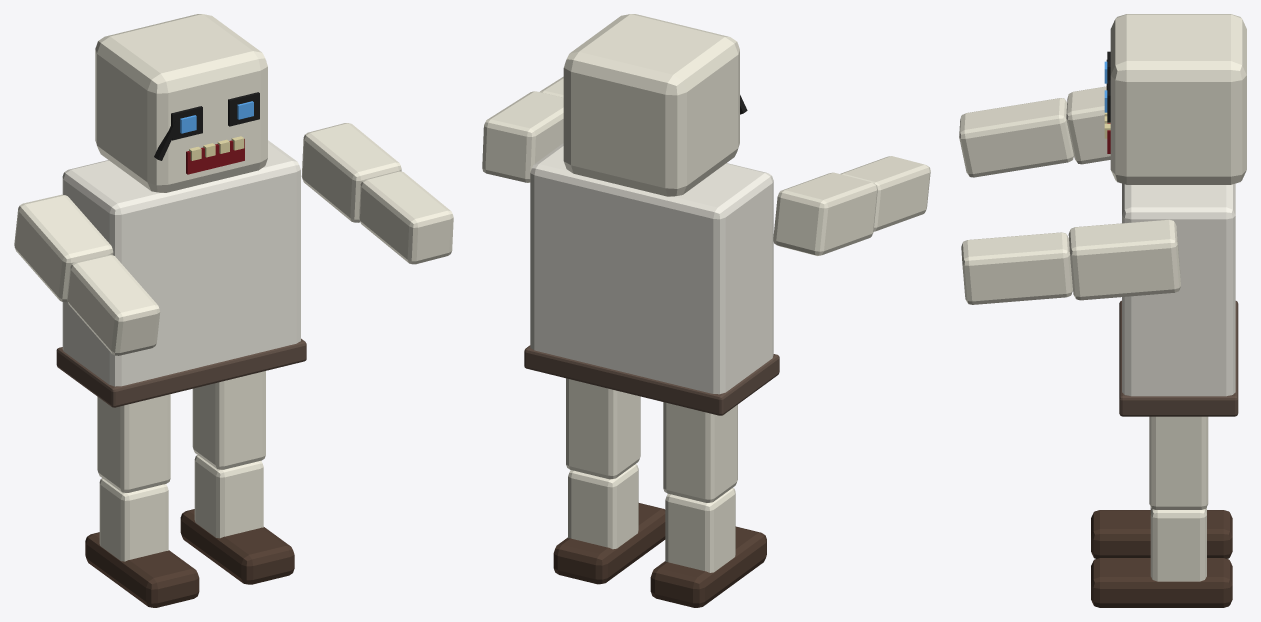
File: zombi_esqueleto.glb
The picture shows the model from 3 angles, left to right: view 1: azimuth 30°, elevation 25°; view 2: azimuth 150°, elevation 25°; view 3: azimuth 270°, elevation 25°; orthographic projection. The views are drawn at different scales.
Parts seen in each view (by area): view 1: Cube, Head, LeftLeg, RightLeg, LeftArm, RightArm, Cube.001; view 2: Cube, Head, LeftLeg, RightLeg, LeftArm, RightArm, Cube.001; view 3: Head, Cube, RightLeg, RightArm, LeftArm, LeftLeg, Cube.001.
Boxes of the visible parts, box(x1,y1,x2,y2) form: Cube: box(62, 140, 300, 386); Head: box(95, 14, 267, 192); LeftLeg: box(85, 394, 199, 607); RightLeg: box(180, 371, 294, 584); LeftArm: box(14, 194, 160, 355); RightArm: box(301, 123, 453, 264); Cube.001: box(56, 338, 306, 407); Cube: box(530, 143, 773, 394); Head: box(563, 14, 747, 196); LeftLeg: box(650, 402, 766, 607); RightLeg: box(553, 378, 665, 584); LeftArm: box(773, 156, 930, 255); RightArm: box(482, 76, 563, 182); Cube.001: box(524, 345, 779, 415); Head: box(1104, 14, 1246, 184); Cube: box(1122, 183, 1235, 396); RightLeg: box(1091, 416, 1232, 607); RightArm: box(961, 219, 1180, 304); LeftArm: box(959, 86, 1110, 177); LeftLeg: box(1091, 510, 1232, 558); Cube.001: box(1119, 300, 1238, 416).
Size of the model in its own units: 3.57 by 5.22 by 2.54.
3 materials, 1 textured.
